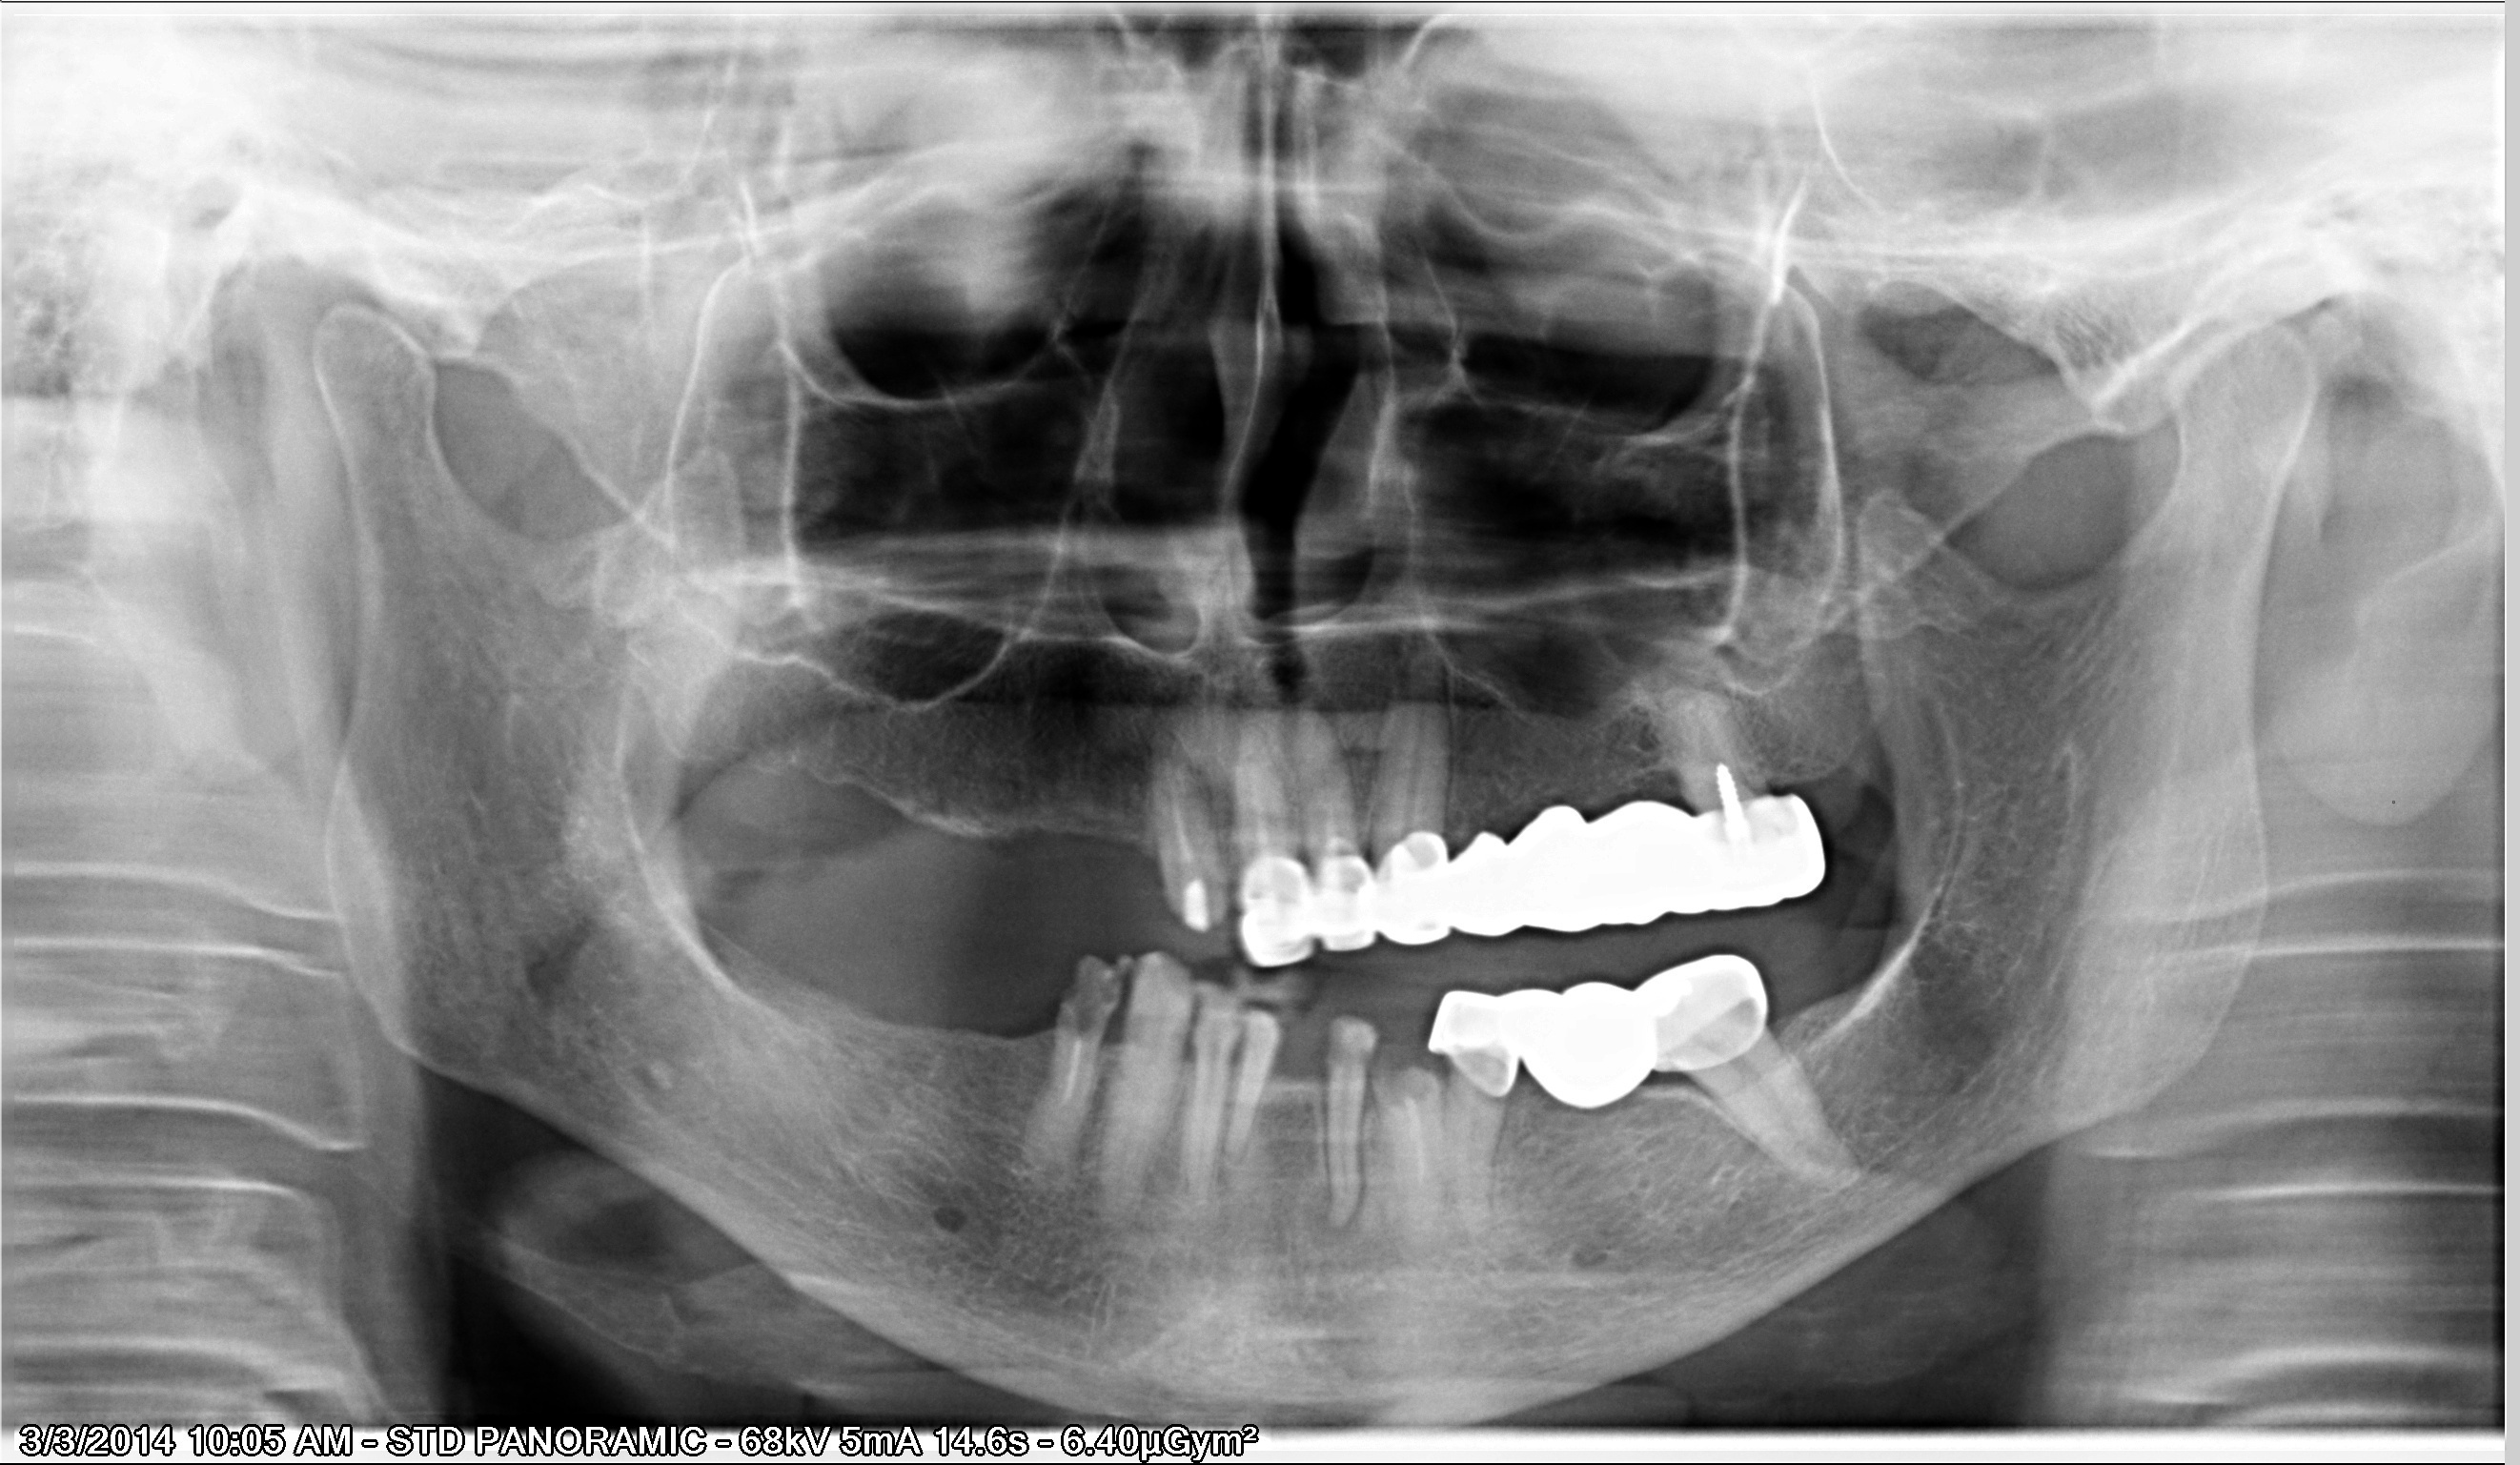API: (1304, 1142, 1366, 1257)
CAR: (1060, 956, 1121, 1038)
END: (1163, 755, 1196, 862)
OBT: (1184, 877, 1209, 931)
PRR: (1236, 764, 1822, 966)
ROT: (1369, 1053, 1447, 1256)
